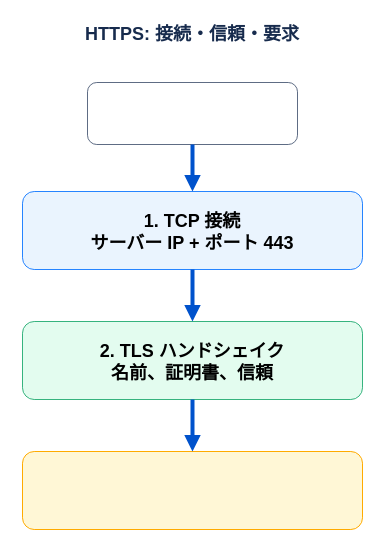
Some shapes in this 385 by 546 pixel diagram are drawn without their labels. The centre of each missing label's shape, as x and y in pixels:
"3. HTTP のやり取り メソッド、パス、本文" goes at point 192,490.
"クライアント" goes at point 192,113.
